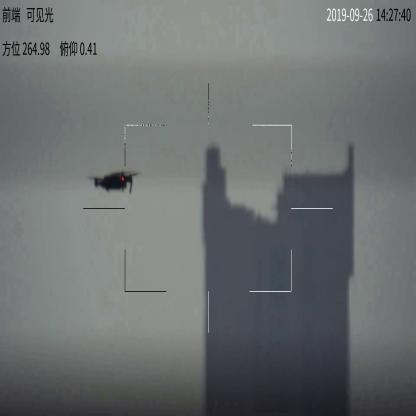uav: (87, 171, 137, 194)
